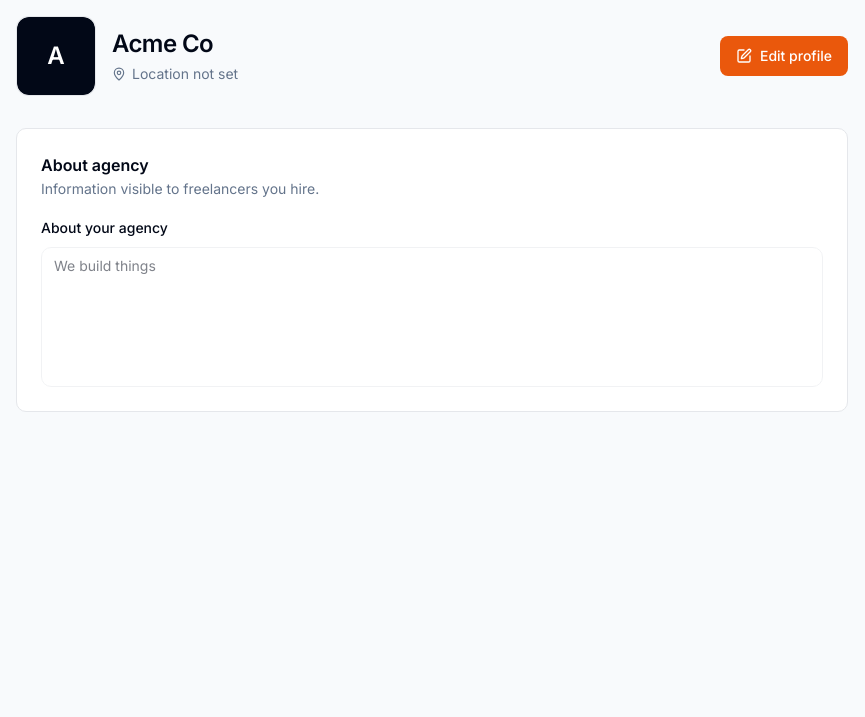
AgencyProfile › renders the current profile read-only, then reveals form fields in edit mode
Expected: the heading "Acme Co" is shown, [112, 29, 213, 58]
Expected: the text box showing "We build things" is shown, [41, 247, 823, 387]
What coordinates should you click on to do the following:
click the button "Edit profile"
I would click on:
 (784, 56)
Its box is [720, 36, 848, 76].
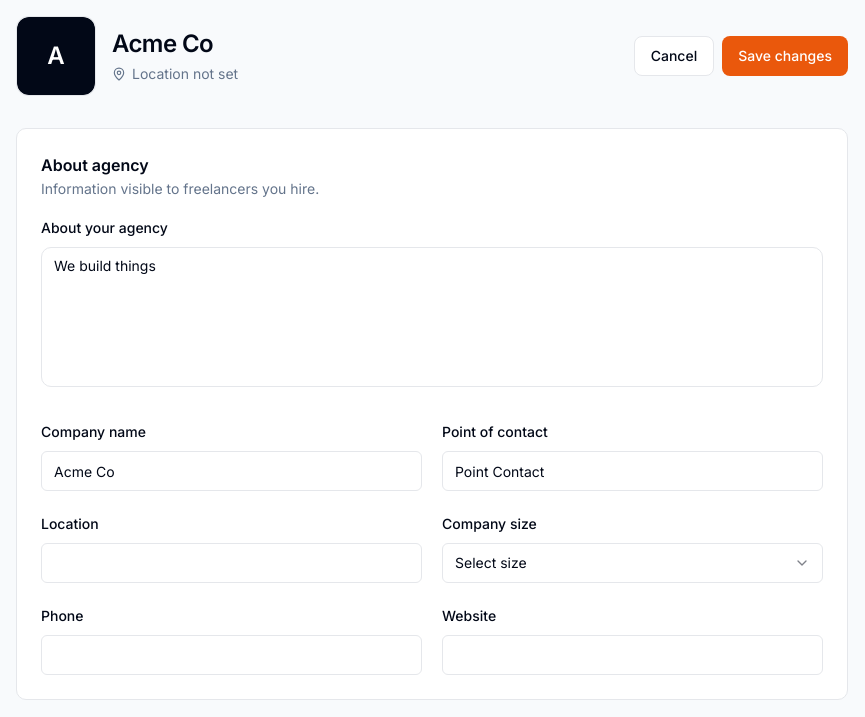
Expected: the field labelled "Company name" holds "Acme Co", [41, 451, 422, 491]
